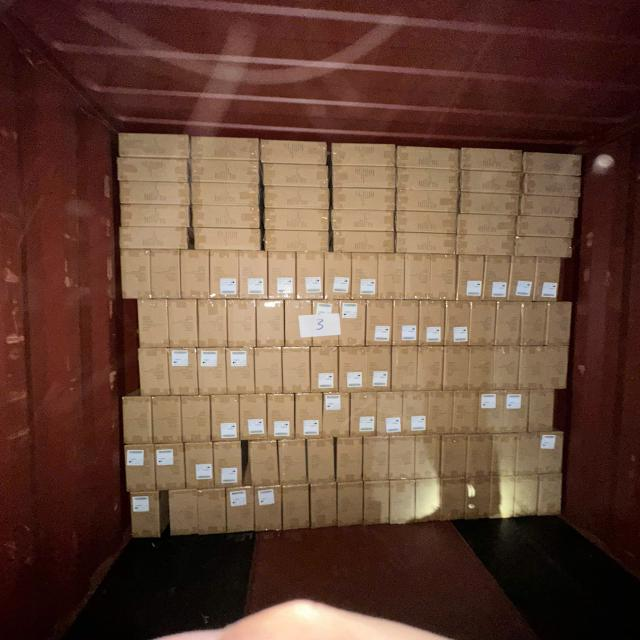Carton: (469, 346, 521, 392), (518, 344, 568, 390), (116, 133, 190, 161), (118, 155, 192, 183), (188, 157, 260, 184), (189, 135, 260, 162), (120, 182, 192, 208), (119, 204, 192, 229), (191, 183, 260, 209), (119, 227, 190, 252), (260, 140, 328, 166), (262, 166, 330, 192), (192, 225, 262, 250), (191, 205, 261, 230), (263, 187, 332, 212), (263, 207, 330, 232), (331, 144, 395, 170), (395, 145, 461, 170), (520, 152, 582, 178), (522, 175, 584, 201), (121, 251, 153, 301), (394, 190, 458, 215), (458, 192, 519, 218), (263, 231, 329, 255), (460, 148, 523, 173), (330, 189, 395, 213), (396, 168, 461, 192), (209, 251, 240, 301), (460, 169, 522, 194), (126, 444, 158, 492), (130, 492, 162, 540), (332, 169, 396, 193), (156, 443, 188, 490), (152, 250, 182, 300), (527, 389, 561, 433), (330, 209, 395, 232), (138, 300, 169, 348), (168, 488, 199, 536), (519, 196, 581, 220), (247, 441, 279, 487), (331, 232, 395, 255), (124, 396, 154, 445), (393, 211, 456, 234), (198, 300, 228, 348), (168, 300, 198, 348), (197, 346, 227, 394), (168, 347, 198, 395), (181, 396, 211, 444), (139, 347, 169, 395), (394, 234, 456, 257), (180, 252, 209, 301), (403, 253, 433, 300), (516, 234, 577, 257), (297, 254, 326, 302), (154, 396, 183, 444), (226, 303, 255, 351), (214, 442, 244, 488), (198, 488, 228, 534), (456, 235, 516, 258), (516, 215, 576, 238), (457, 213, 517, 236), (240, 252, 268, 301), (227, 486, 256, 533), (312, 301, 341, 348), (211, 395, 239, 443), (270, 253, 298, 301), (286, 300, 314, 348), (184, 443, 213, 489), (311, 347, 340, 393), (339, 346, 368, 392), (258, 301, 286, 348), (268, 394, 296, 441), (228, 347, 256, 394), (278, 439, 306, 486), (456, 256, 484, 303), (378, 255, 406, 302), (324, 253, 351, 301), (255, 346, 282, 394), (351, 254, 378, 302), (431, 253, 458, 301), (282, 347, 310, 393), (240, 396, 268, 442), (282, 484, 310, 530), (534, 258, 562, 304), (254, 486, 282, 531), (308, 438, 336, 483), (484, 256, 510, 304), (365, 301, 392, 347), (418, 302, 445, 348), (295, 394, 322, 440), (310, 482, 337, 528), (509, 258, 536, 304), (377, 390, 404, 436), (337, 483, 365, 527), (440, 434, 468, 478), (536, 432, 564, 476), (392, 301, 418, 348), (336, 438, 363, 483), (322, 394, 349, 439), (350, 393, 377, 438), (520, 303, 548, 346), (501, 389, 529, 432), (341, 300, 366, 348), (389, 435, 415, 481), (417, 348, 444, 392), (440, 478, 467, 522), (466, 478, 493, 522), (362, 437, 388, 482), (391, 346, 417, 391), (390, 479, 416, 524), (362, 481, 388, 526), (403, 392, 429, 437), (416, 434, 441, 480), (469, 302, 495, 346), (547, 303, 573, 347), (444, 346, 469, 391), (416, 478, 441, 523), (453, 391, 478, 436), (495, 305, 520, 350), (365, 346, 390, 391), (478, 390, 503, 435), (536, 474, 562, 517), (427, 390, 452, 434), (489, 477, 514, 521), (514, 476, 539, 519), (468, 434, 493, 477), (446, 302, 470, 346), (514, 432, 538, 476), (491, 434, 515, 477)
